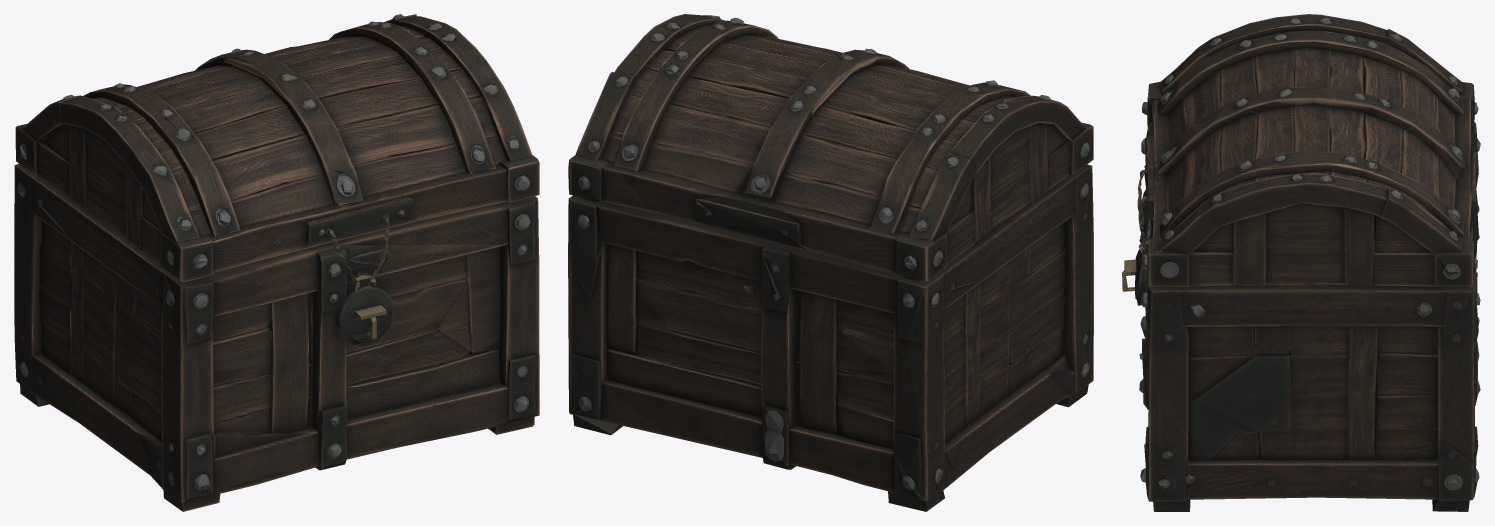
The model's file is chest.glb.
The picture shows the model from 3 angles, left to right: view 1: azimuth 30°, elevation 25°; view 2: azimuth 150°, elevation 25°; view 3: azimuth 270°, elevation 25°; orthographic projection. The views are drawn at different scales.
Size of the model in its own units: 0.4 by 0.362 by 0.3488.
1 material, 1 textured.
